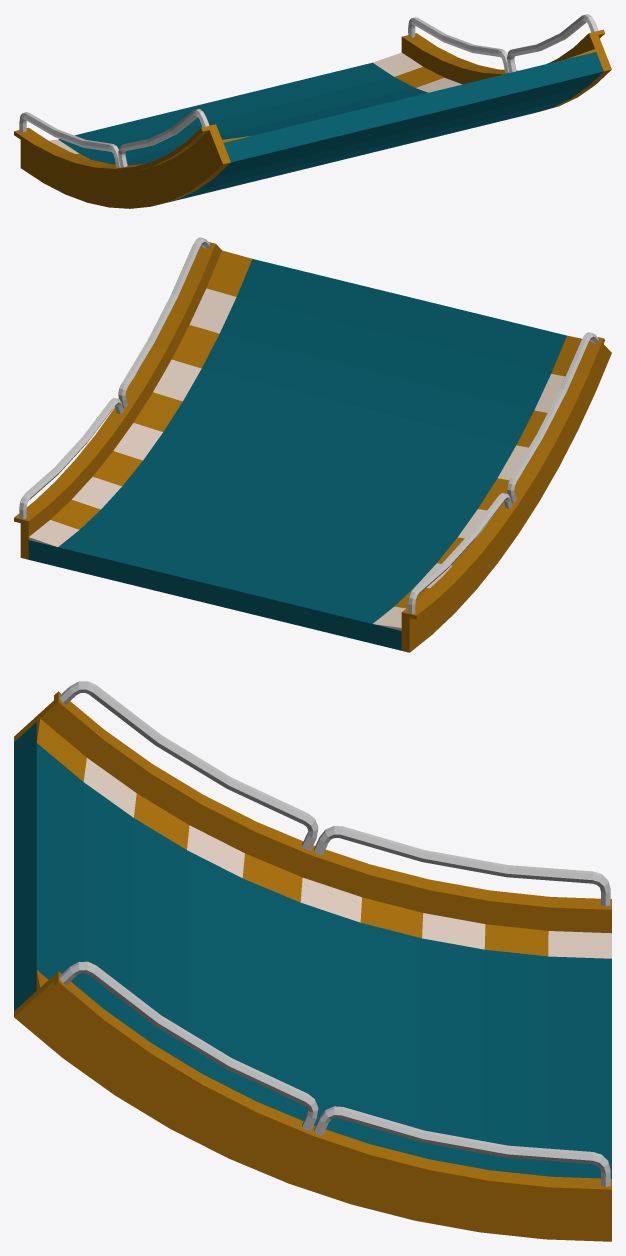
Rendered from ascent-45_s.FBX.
The picture shows the model from 3 angles, top to bottom: view 1: azimuth 30°, elevation 25°; view 2: azimuth 150°, elevation 25°; view 3: azimuth 270°, elevation 25°; orthographic projection. The views are drawn at different scales.
Parts seen in each view (by area): view 1: ascent-45_s, wall_r, wall_l, curbs_l; view 2: ascent-45_s, wall_r, wall_l, curbs_l, curbs_r; view 3: ascent-45_s, wall_l, wall_r, curbs_r.
Boxes of the visible parts, x1,y1,x2,y2 form: ascent-45_s: [58, 52, 603, 203]; wall_r: [14, 109, 230, 208]; wall_l: [401, 14, 611, 112]; curbs_l: [373, 49, 595, 92]; ascent-45_s: [28, 259, 566, 650]; wall_r: [401, 332, 611, 652]; wall_l: [14, 237, 221, 559]; curbs_l: [29, 250, 252, 546]; curbs_r: [373, 335, 581, 630]; ascent-45_s: [14, 722, 611, 1178]; wall_l: [14, 961, 611, 1241]; wall_r: [14, 681, 611, 933]; curbs_r: [36, 718, 611, 958].
Size of what is drawn, in the model's own units: 207 by 92.6 by 180.
